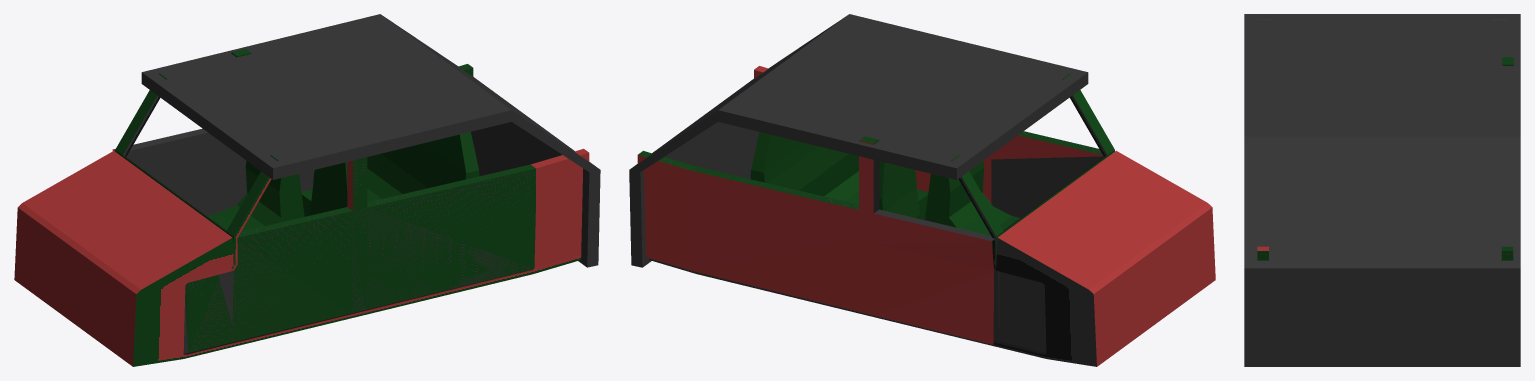
Rendered from player_car.obj.
3 renders of one model, left to right at view 1: azimuth 30°, elevation 25°; view 2: azimuth 150°, elevation 25°; view 3: azimuth 270°, elevation 25°, orthographic. The views are drawn at different scales.
Visible parts, largest first — view 1: Cube; view 2: Cube; view 3: Cube.
Part boxes in pixels (<box>): Cube: <box>14,14,600,366</box>; Cube: <box>629,14,1215,366</box>; Cube: <box>1244,14,1520,366</box>.
Size of the model in its own units: 0.7085 by 0.2606 by 0.3494.
